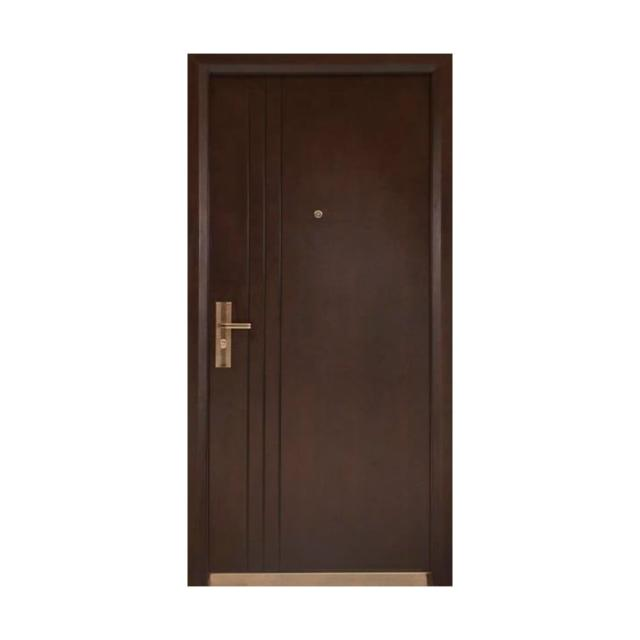door: (187, 54, 452, 587)
